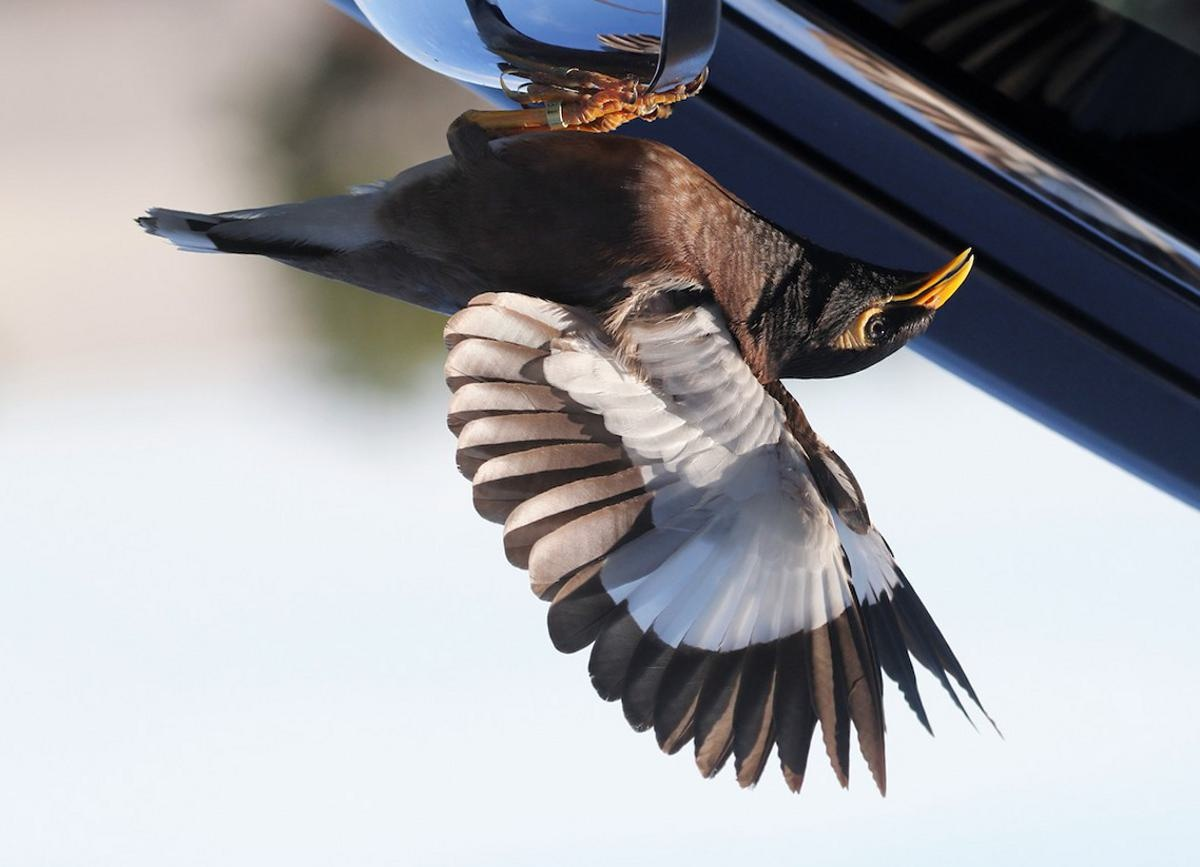myna: (230, 77, 1016, 661)
